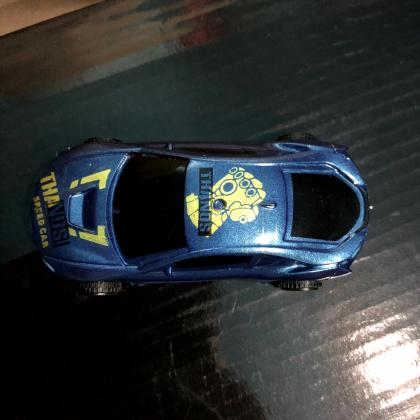Car: (29, 139, 372, 289)
